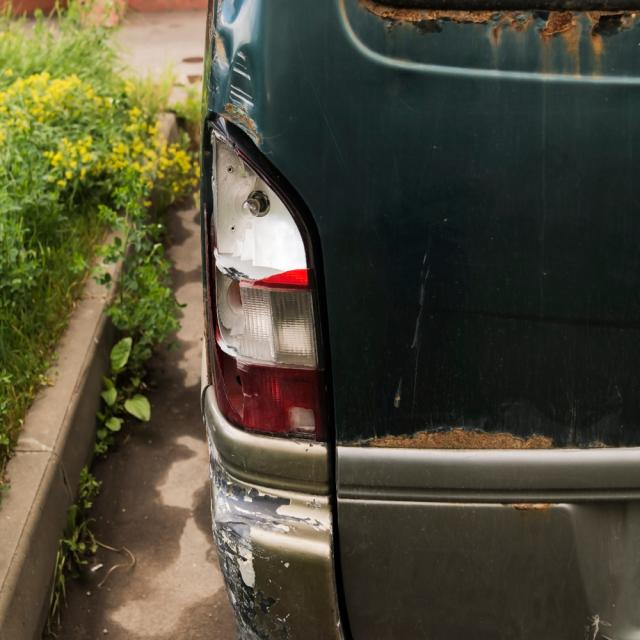Phare abime: (208, 119, 308, 423)
Rayure: (206, 461, 324, 639), (376, 212, 445, 427)
